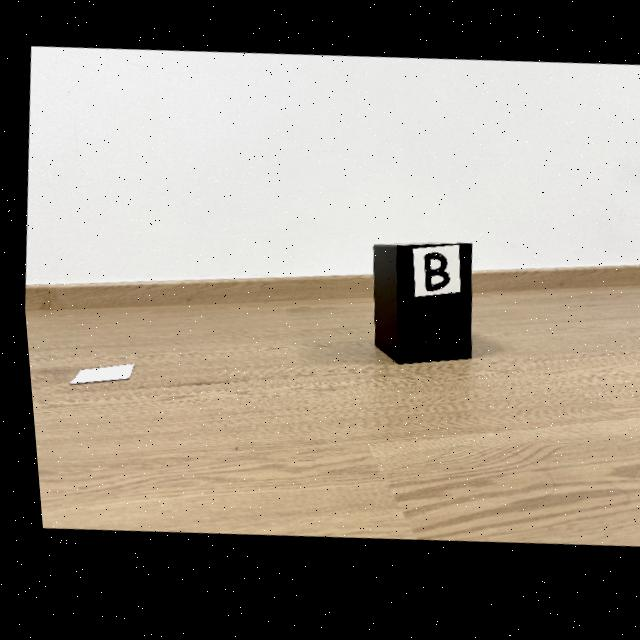B: (419, 258, 444, 297)
